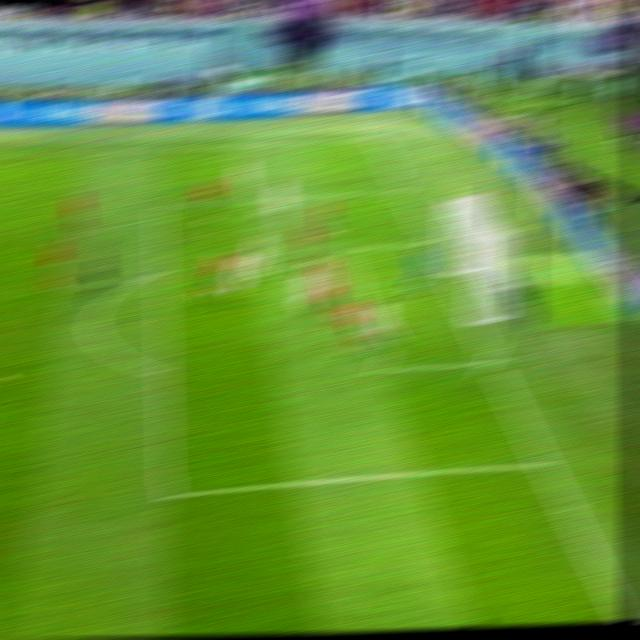bigarea_bottom_inner: (149, 481, 181, 506)
bigarea_bottom_outter: (527, 453, 557, 475)
bigarea_top_inner: (145, 196, 170, 214)
bigarea_top_outter: (390, 181, 414, 198)
bottom_arc_area_intersection: (147, 361, 175, 381)
corner: (362, 131, 389, 145)
smallarea_bottom_inner: (366, 354, 398, 382)
smallarea_bottom_outter: (473, 348, 506, 372)
smallarea_top_inner: (331, 239, 355, 258)
smallarea_top_outter: (417, 231, 442, 251)
top_arc_area_intersection: (147, 260, 172, 281)
